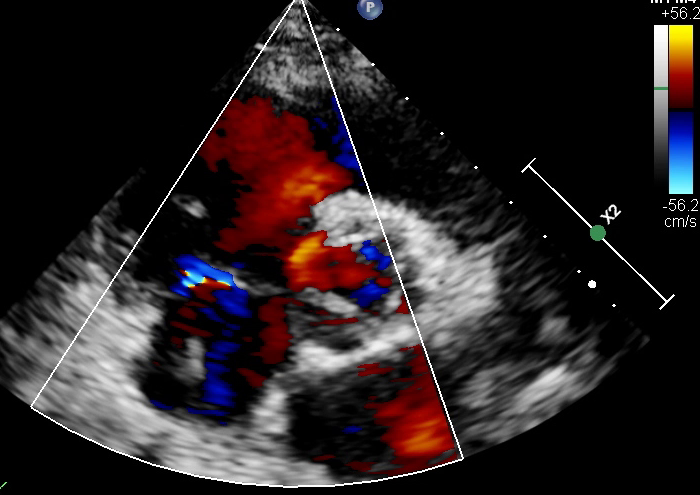TR: (168, 246, 312, 334)
